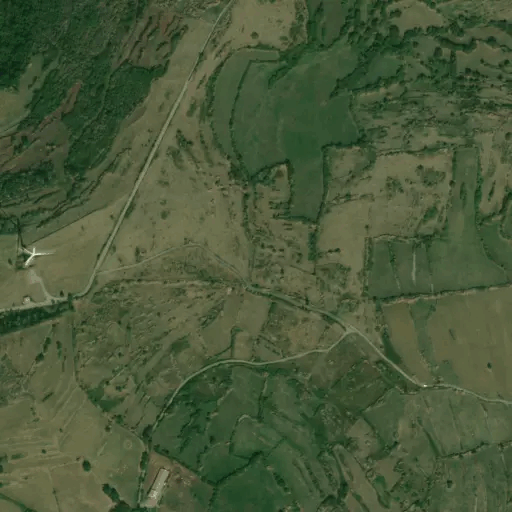wt: (2, 213, 54, 264)
